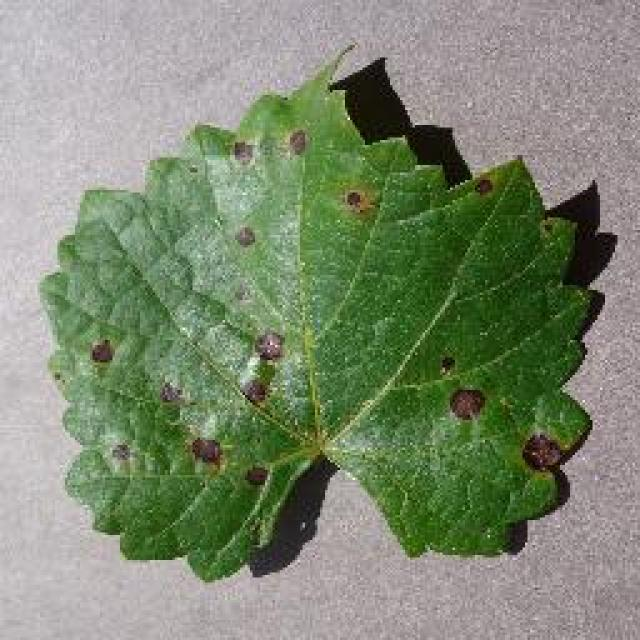Grape___Black_rot: (27, 39, 601, 588)
